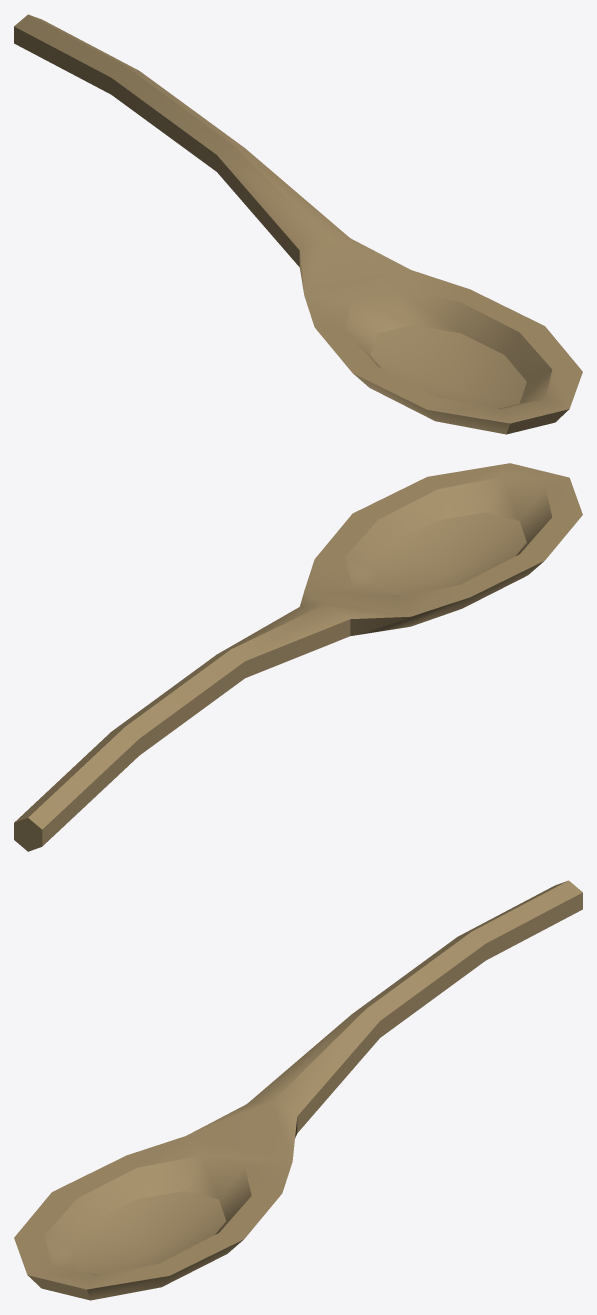
File: EA_Items_House_soon_wooden.glb
The picture shows the model from 3 angles, top to bottom: view 1: azimuth 30°, elevation 25°; view 2: azimuth 150°, elevation 25°; view 3: azimuth 330°, elevation 25°; orthographic projection.
Visible parts, largest first — view 1: EA_Items_House_soon_wooden; view 2: EA_Items_House_soon_wooden; view 3: EA_Items_House_soon_wooden.
Boxes of the visible parts, bbox=[...] form: EA_Items_House_soon_wooden: bbox=[14, 14, 582, 434]; EA_Items_House_soon_wooden: bbox=[14, 463, 582, 851]; EA_Items_House_soon_wooden: bbox=[14, 880, 582, 1300].
Size of the model in its own units: 0.0681 by 0.029 by 0.3137.
Materials: 1 (1 with a texture image).
